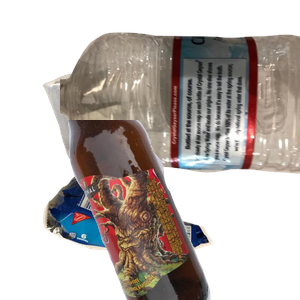glass: (65, 120, 300, 300)
paper: (40, 35, 249, 187)
plastic: (60, 30, 300, 196)
trash: (40, 158, 245, 300)
